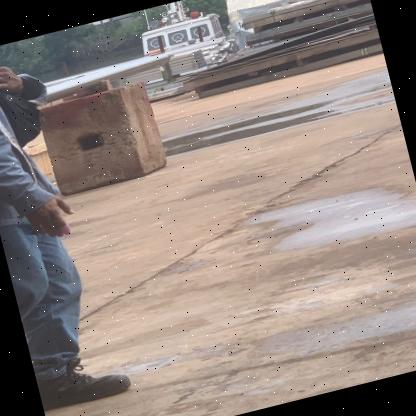bota: (33, 342, 132, 413)
